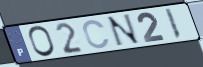2: (54, 21, 87, 56), (137, 11, 168, 45)
C: (82, 19, 111, 50)
I: (163, 7, 184, 41)
N: (105, 13, 143, 49)
O: (27, 25, 57, 59)
